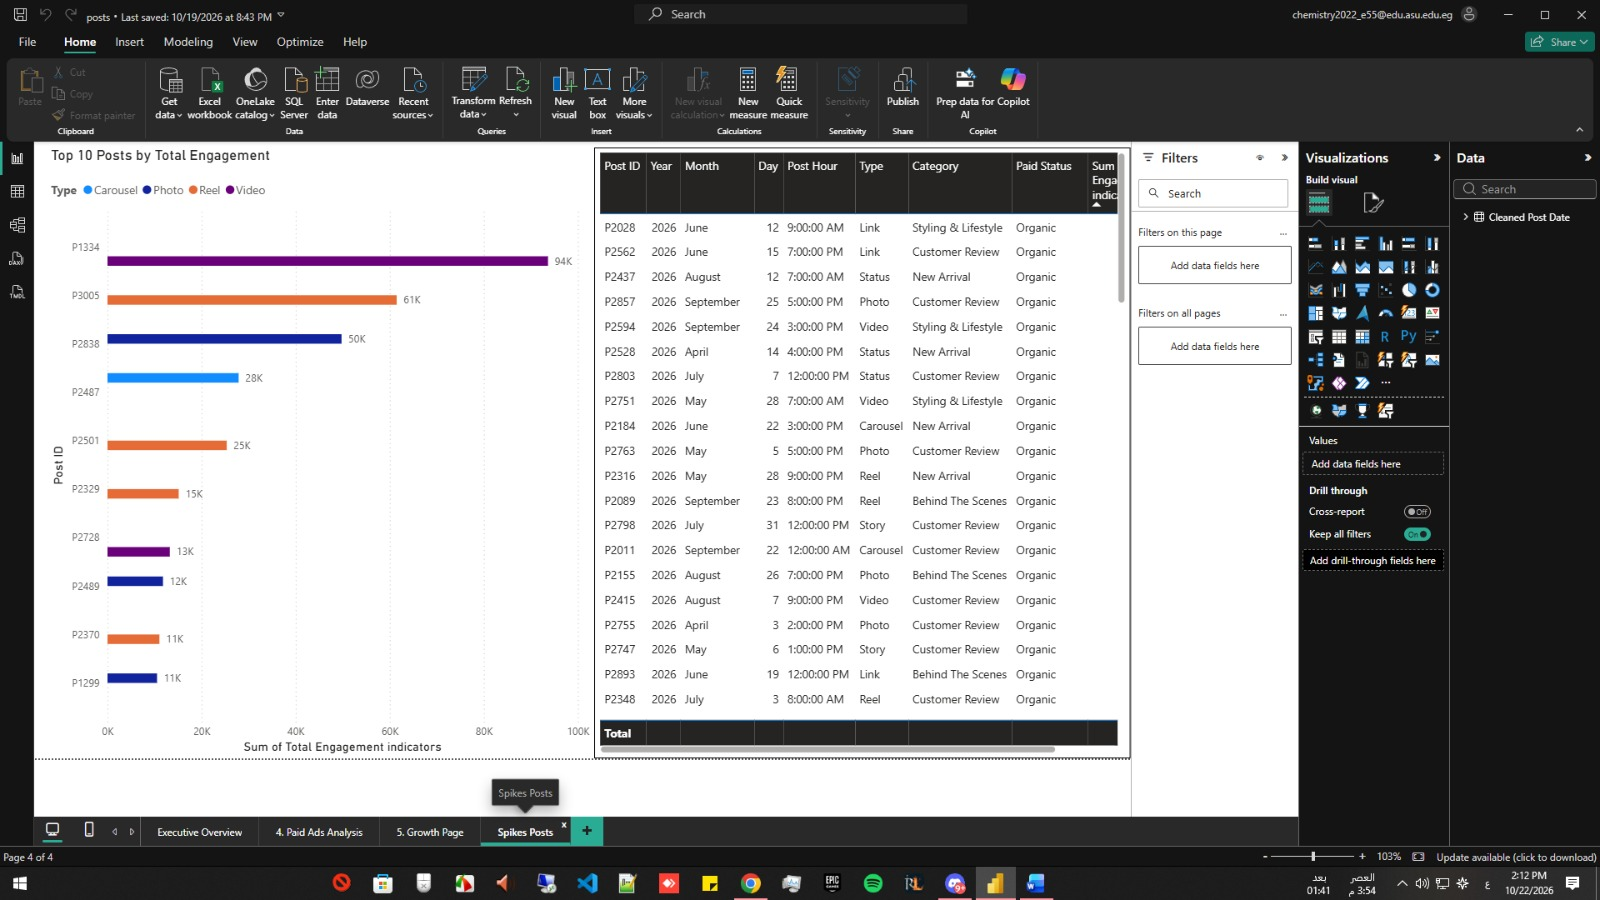

The dashboard page shown, as its layout file describes it:
{"tool":"powerbi","page":{"name":"Spikes Posts","canvas":[1280,720],"ordinal":3},"visuals":[{"type":"clusteredBarChart","title":"Top 10 Posts by Total Engagement","fields":{"Category":["Cleaned Post Date.Post ID"],"Series":["Cleaned Post Date.Type"],"Y":["Sum(Cleaned Post Date.Total Engagement indicators)"]},"box":[14.6,5.8,639,713.9],"z":0},{"type":"tableEx","title":"Top 10 Posts by Total Engagement","fields":{"Values":["Cleaned Post Date.Post ID","Cleaned Post Date.Post Date.Variation.Date Hierarchy.Year","Cleaned Post Date.Post Date.Variation.Date Hierarchy.Month","Cleaned Post Date.Post Date.Variation.Date Hierarchy.Day","Cleaned Post Date.Post Hour","Cleaned Post Date.Type","Cleaned Post Date.Category","Cleaned Post Date.Paid Status","Sum(Cleaned Post Date.Total Engagement indicators)"]},"box":[653.6,6.8,626.4,712.9],"z":1000}]}

Visuals, with their boxes on the page's 1280x720 design canvas (x1, y1, x2, y2). These are canvas units, not pixel positions in the 1600x900 screenshot, which may show the page scaled, cropped or inside an application window:
"Top 10 Posts by Total Engagement" clusteredBarChart: [15, 6, 654, 720]
"Top 10 Posts by Total Engagement" tableEx: [654, 7, 1280, 720]
